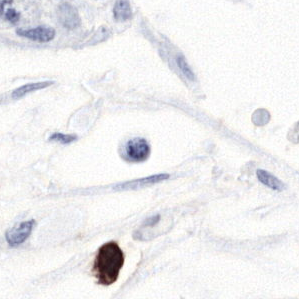Lymphocyte: (91, 241, 129, 286)
